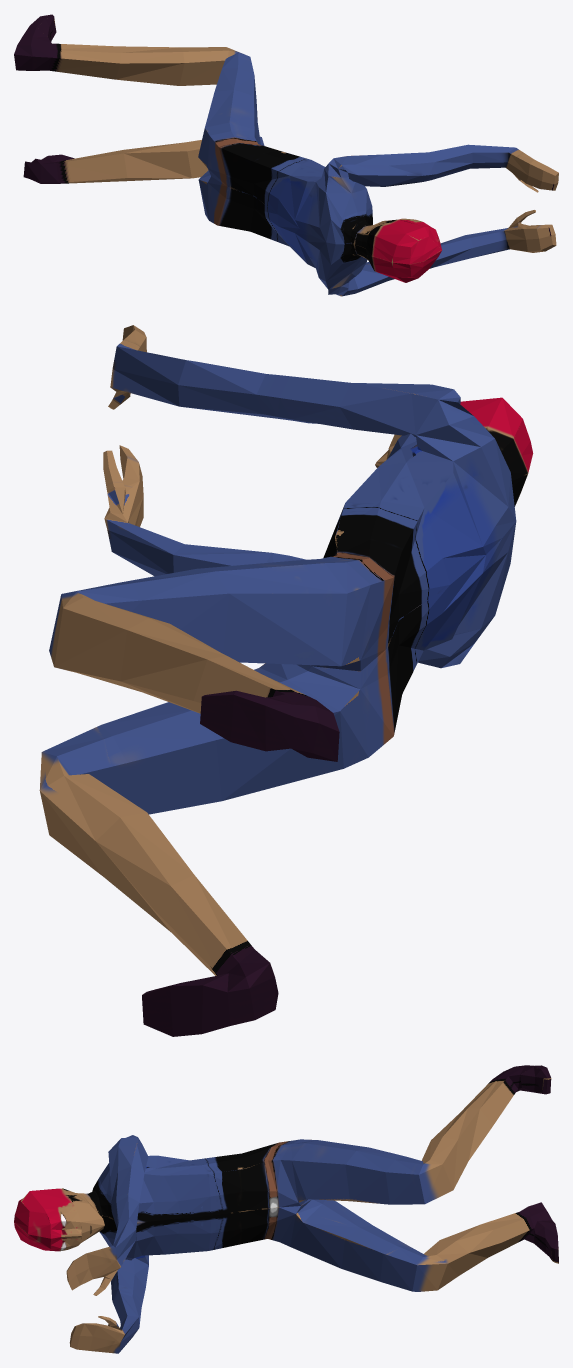
The model's file is mirrorman_000015.obj.
The picture shows the model from 3 angles, top to bottom: view 1: azimuth 30°, elevation 25°; view 2: azimuth 150°, elevation 25°; view 3: azimuth 270°, elevation 25°; orthographic projection. The views are drawn at different scales.
Visible parts, largest first — view 1: mirrorman_Cube.001_Material.001; view 2: mirrorman_Cube.001_Material.001; view 3: mirrorman_Cube.001_Material.001.
Part boxes in pixels (x1,y1,x2,y2): mirrorman_Cube.001_Material.001: (14, 14, 558, 296); mirrorman_Cube.001_Material.001: (39, 325, 533, 1036); mirrorman_Cube.001_Material.001: (14, 1065, 558, 1353).
Size of the model in its own units: 1.09 by 0.5511 by 1.52.
